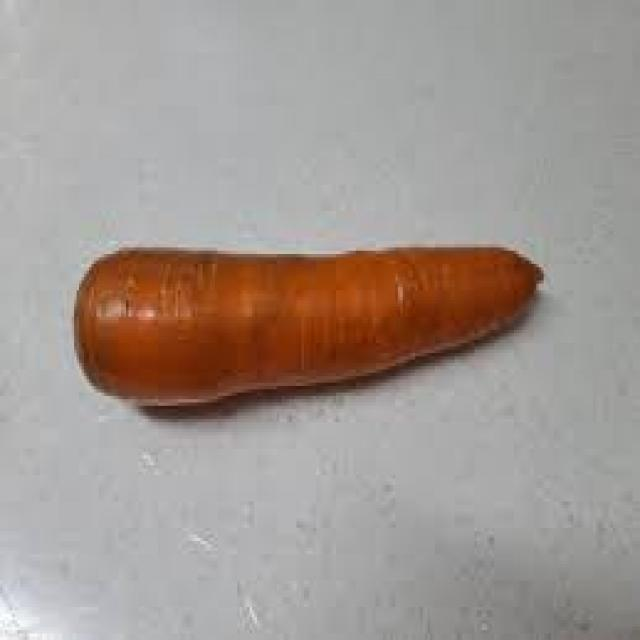carrot: (57, 218, 551, 435)
